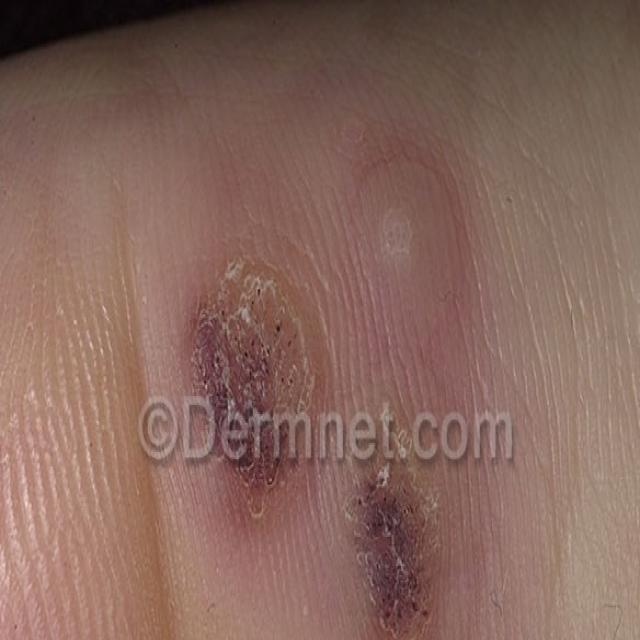Warts: (183, 260, 327, 503), (346, 392, 432, 640)
